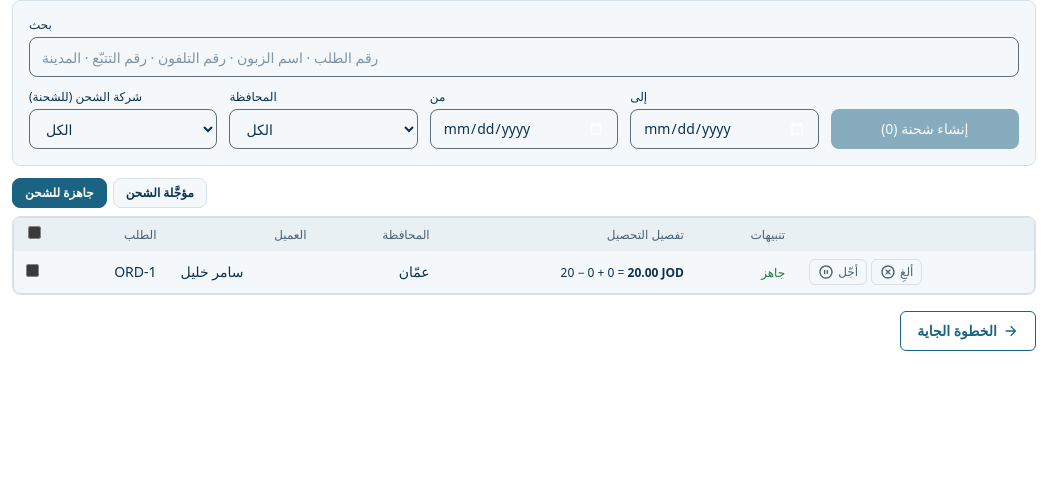
Test: the banner › a failure to prepare them is an error line, and the button is usable again
Expected: the text "سامر خليل" is shown, [180,262,244,281]
Select "شركة الشحن أ" in the dropdown labelled "شركة الشحن (للشحنة)" at (123, 129), box [29,109,217,149]
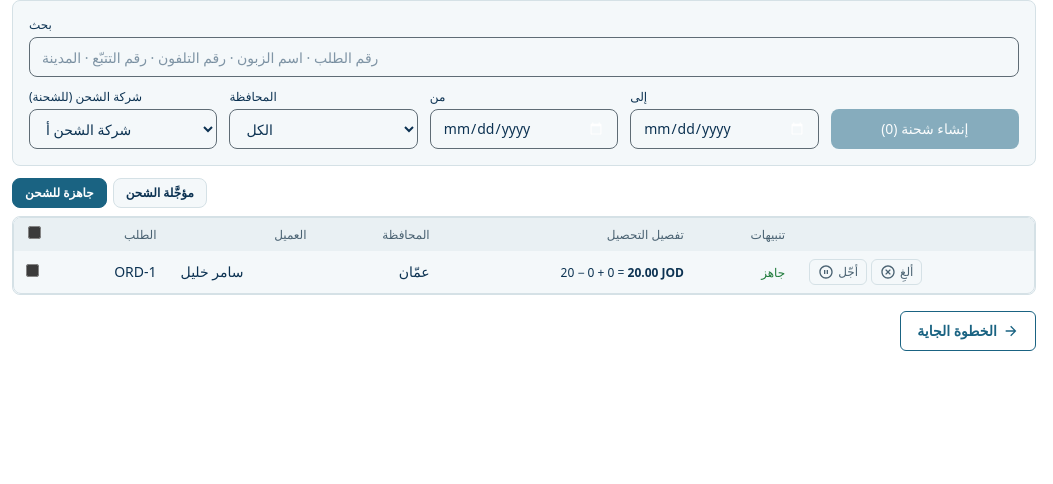
Click the checkbox named "اختر الكل" at (34, 232), box [28,226,40,239]
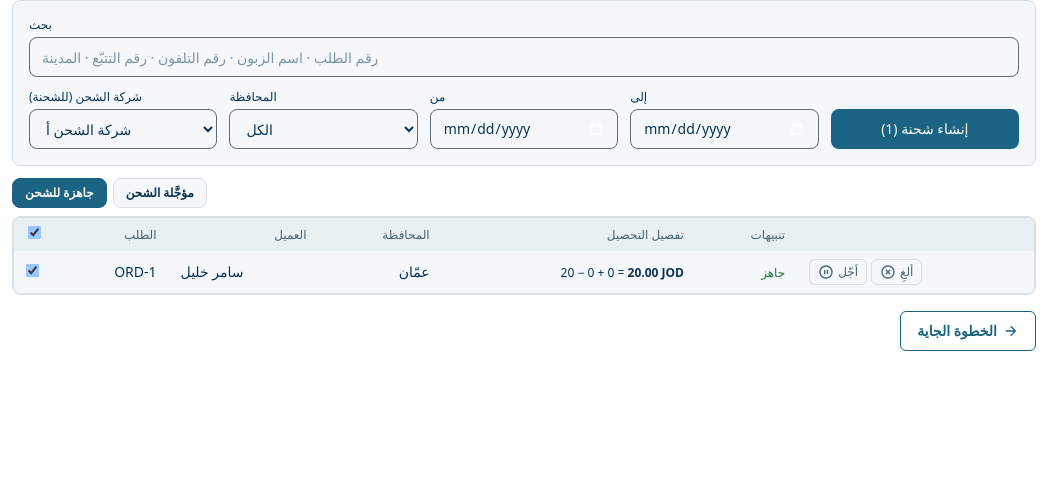
Click the button "إنشاء شحنة (1)" at (925, 129), box [831,109,1019,149]
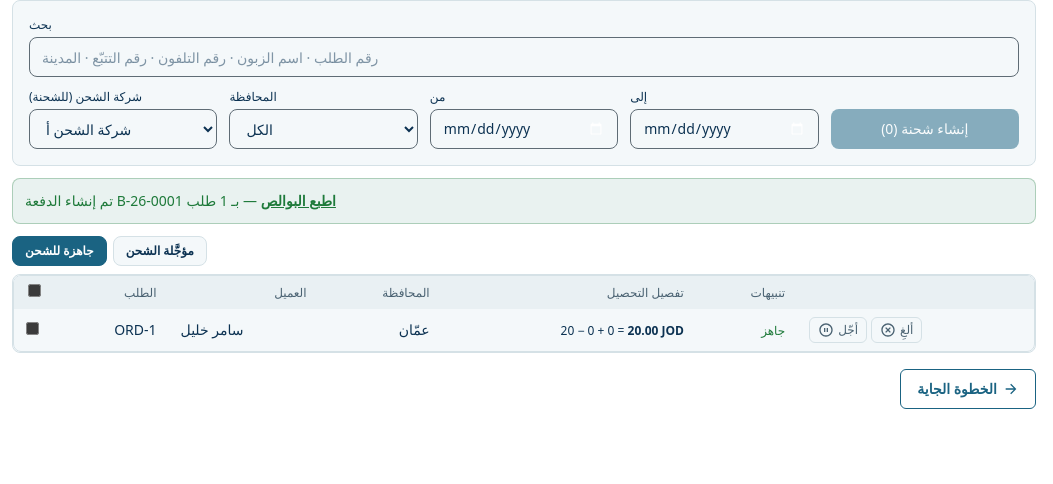
Now the text "تم إنشاء الدفعة B-26-0001 بـ 1 طلب — اطبع البوالص" is shown, box [12,178,1036,224]
Click the button "اطبع البوالص" at (298, 201), box [261,191,336,211]
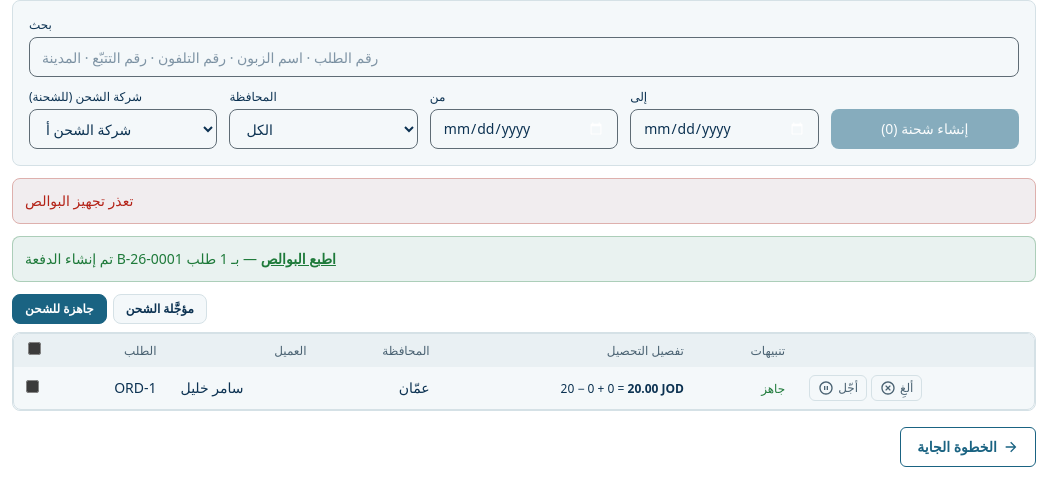
Now the button "اطبع البوالص" is enabled, box [261,249,336,269]
Now the text "تعذر تجهيز البوالص" is shown, box [12,178,1036,224]
